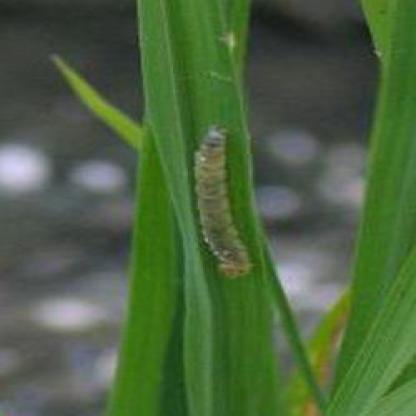leaf-folder: (171, 106, 265, 284)
